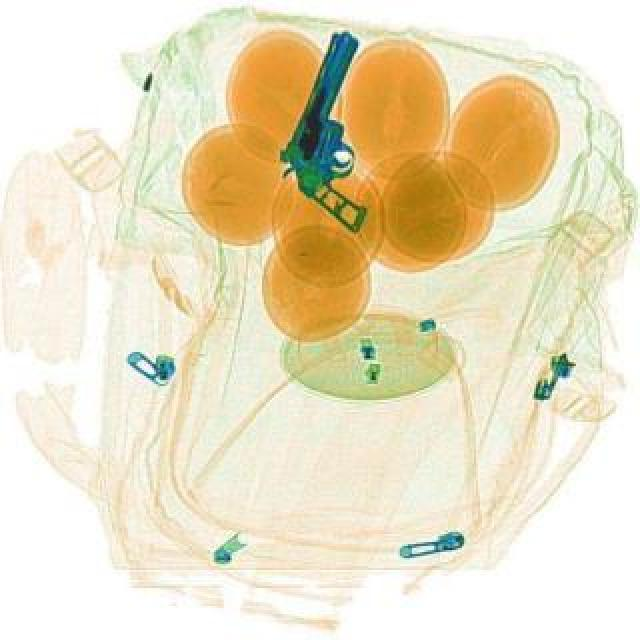gun: (258, 26, 430, 230)
